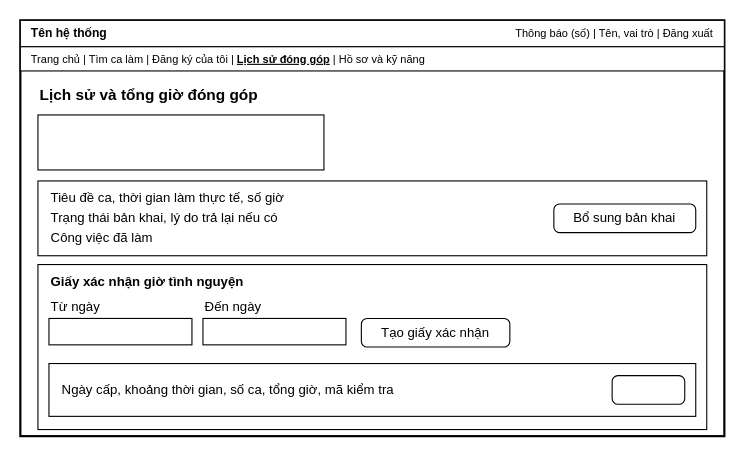
The diagram is 744 pixels wide and 455 high, and some of its shapes have lost their labels. Each missing label, with the box of its shape:
Tải PDF: (611, 375, 685, 404)
Tổng giờ đã được xác nhận Số bản khai đã xác nhận: (37, 114, 324, 170)
